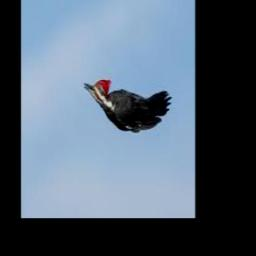Woodpecker: (84, 79, 173, 131)
